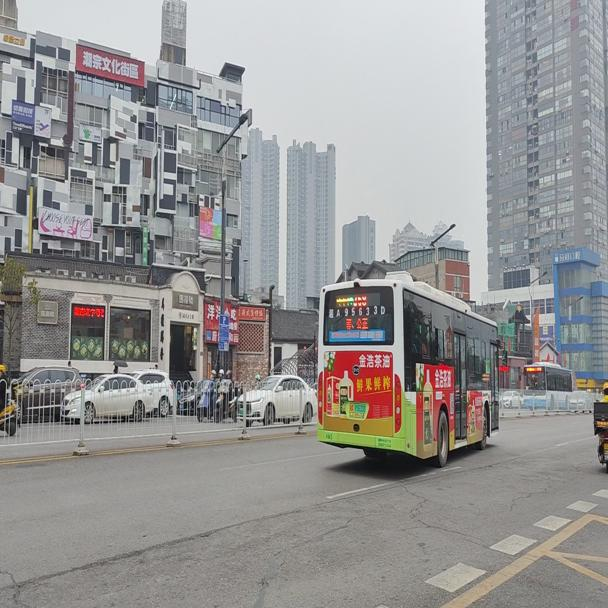bus: (314, 273, 508, 467)
screen: (353, 294, 367, 304)
